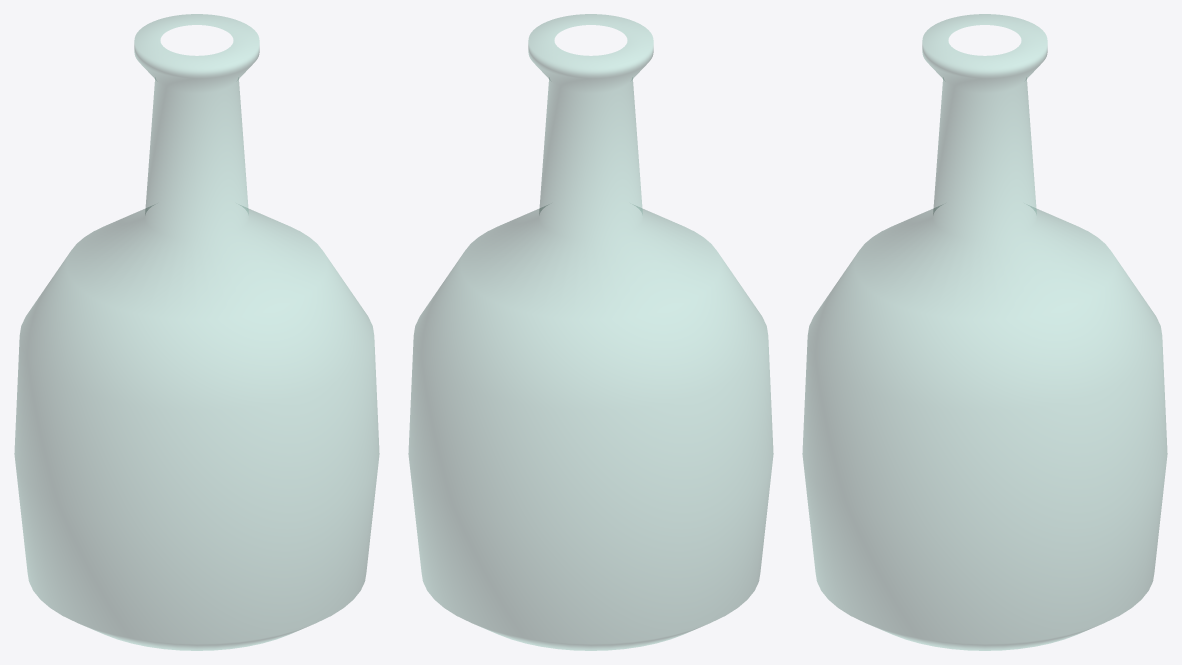
Rendered from bottle.glb.
3 renders of one model, left to right at view 1: azimuth 30°, elevation 25°; view 2: azimuth 150°, elevation 25°; view 3: azimuth 270°, elevation 25°, orthographic.
Parts seen in each view (by area): view 1: bottle; view 2: bottle; view 3: bottle.
Part boxes in pixels (box(x1,y1,x2,y2)): bottle: box(14, 14, 379, 650); bottle: box(408, 14, 773, 650); bottle: box(802, 14, 1167, 650).
Size of the model in its own units: 0.14 by 0.235 by 0.14.
